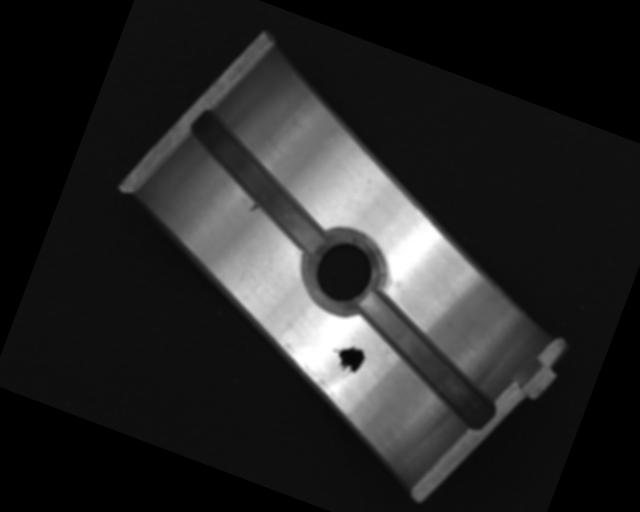blot: (324, 338, 369, 384)
bruise: (247, 200, 261, 215)
gap: (164, 108, 350, 257), (334, 290, 517, 434)
hole: (295, 222, 390, 320)
